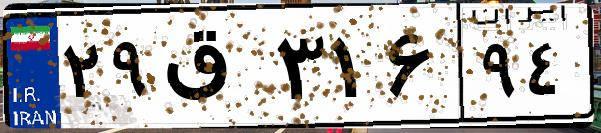1: (330, 28, 385, 110)
2: (57, 26, 110, 100)
3: (270, 28, 330, 110)
4: (525, 38, 570, 115)
6: (385, 28, 445, 110)
9: (475, 38, 525, 113), (110, 28, 158, 98)
ق: (158, 20, 270, 120)
